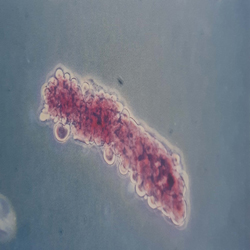Cast: (28, 55, 202, 237)
